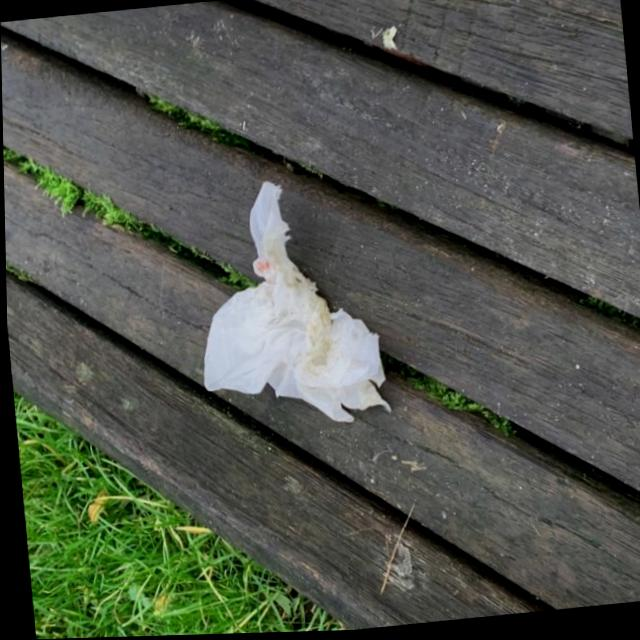Paper: (183, 170, 391, 439)
